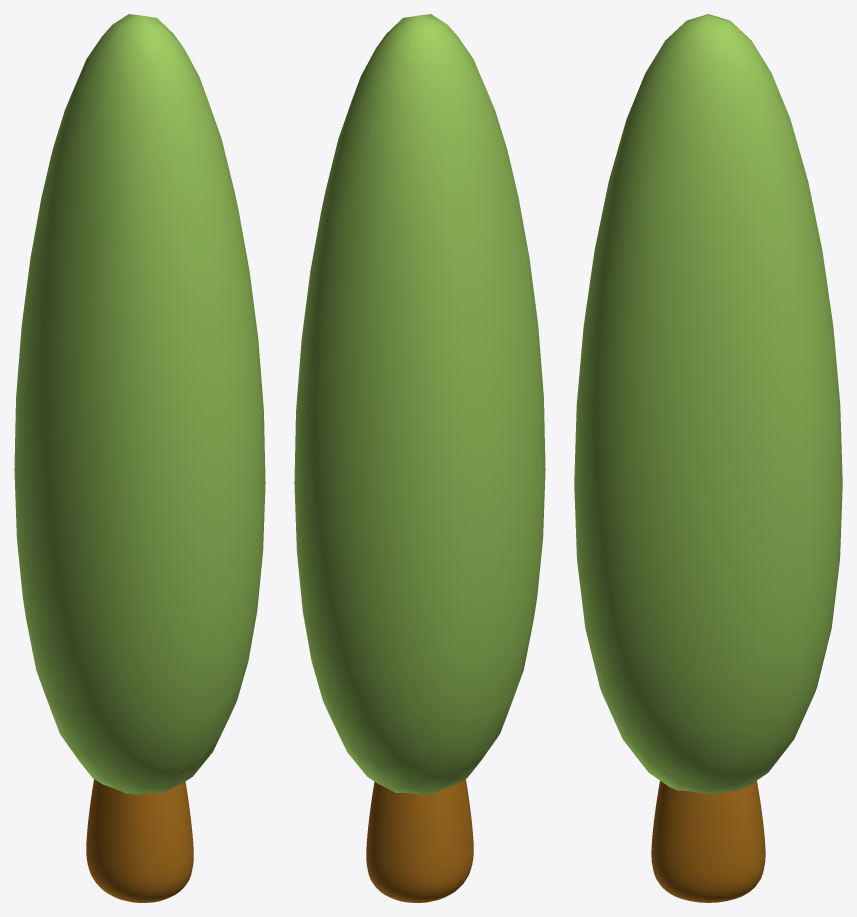
File: Tree_Solo.fbx
3 renders of one model, left to right at view 1: azimuth 30°, elevation 25°; view 2: azimuth 150°, elevation 25°; view 3: azimuth 270°, elevation 25°, orthographic.
Visible parts, largest first — view 1: Leaves, TreeStump; view 2: Leaves, TreeStump; view 3: Leaves, TreeStump.
Part boxes in pixels (<box>): Leaves: <box>14,14,265,794</box>; TreeStump: <box>86,779,193,902</box>; Leaves: <box>294,14,545,794</box>; TreeStump: <box>366,779,473,902</box>; Leaves: <box>574,14,842,794</box>; TreeStump: <box>651,781,765,902</box>.
Size of the model in its own units: 1.89 by 7.63 by 2.11.
